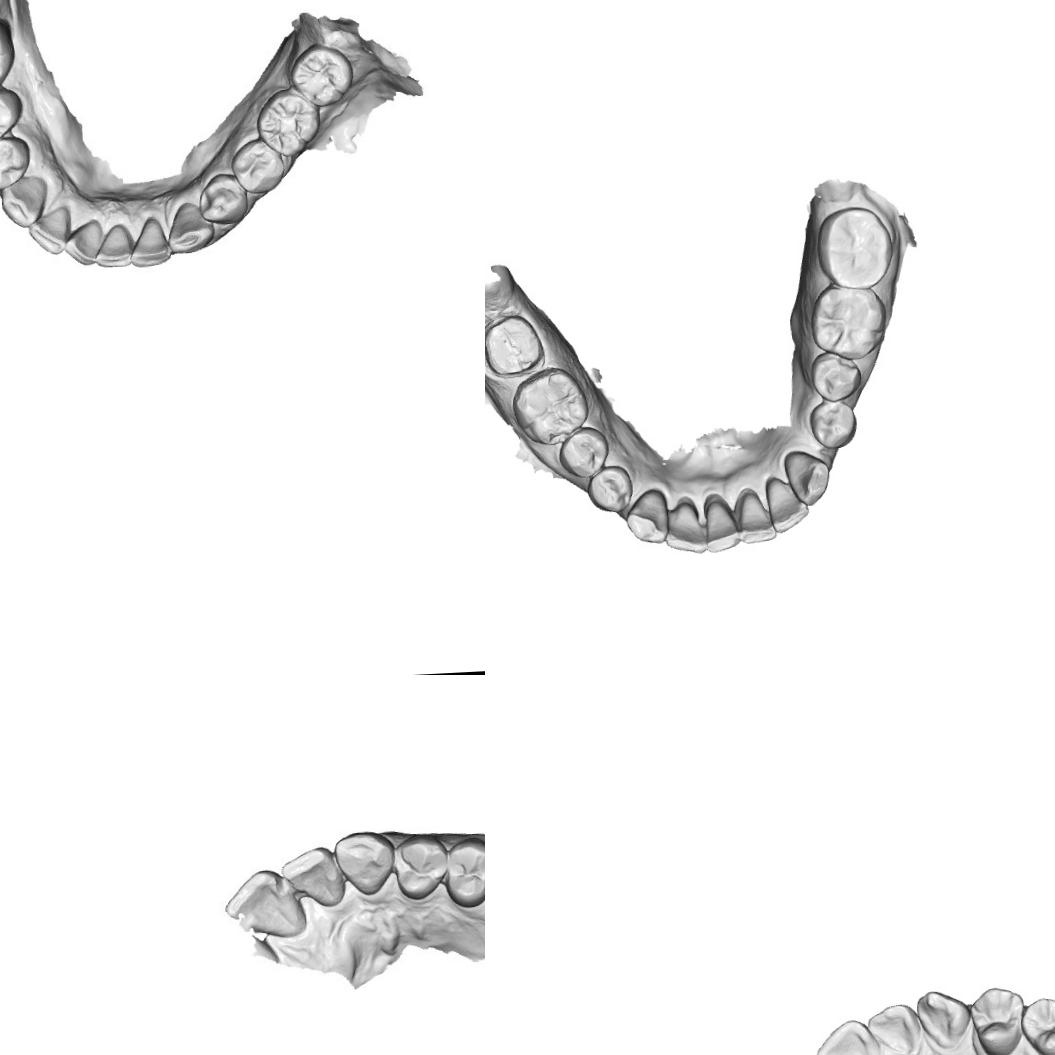canine: (332, 830, 394, 896), (914, 987, 971, 1050), (782, 447, 832, 508), (160, 201, 214, 256), (622, 486, 670, 546), (0, 176, 44, 225)
crown: (485, 311, 545, 379)
incisor: (220, 866, 305, 940), (284, 848, 348, 912), (864, 1002, 924, 1055), (813, 1016, 888, 1055), (764, 472, 812, 532), (662, 499, 708, 555), (734, 488, 777, 544), (702, 494, 742, 552), (28, 206, 72, 256), (59, 219, 103, 268), (130, 214, 168, 268), (96, 222, 132, 270)
molar: (508, 364, 590, 448), (808, 276, 888, 362), (813, 203, 890, 286), (290, 43, 351, 105), (258, 92, 316, 150)
premolar: (967, 983, 1027, 1055), (392, 834, 448, 902), (556, 424, 610, 479), (808, 348, 862, 403), (442, 840, 485, 907), (807, 397, 859, 450), (584, 463, 634, 513), (198, 175, 249, 224), (1018, 994, 1055, 1055), (233, 145, 280, 188), (0, 140, 25, 183), (0, 90, 14, 139)
